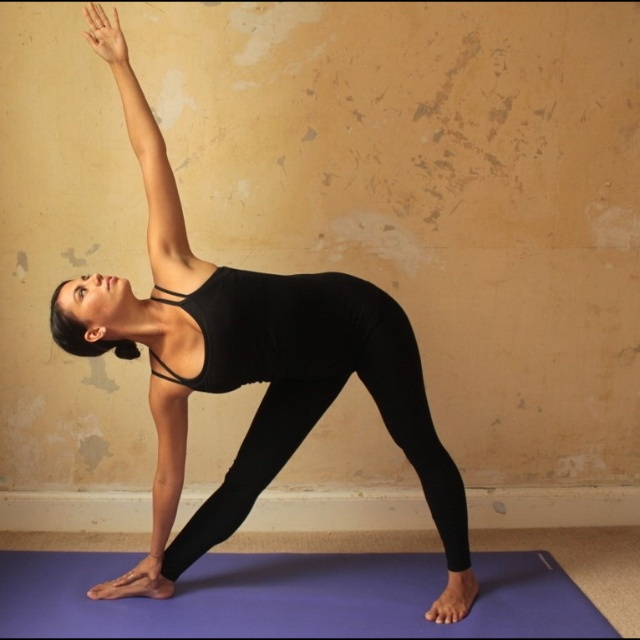Triangle_Pose: (38, 1, 488, 630)
